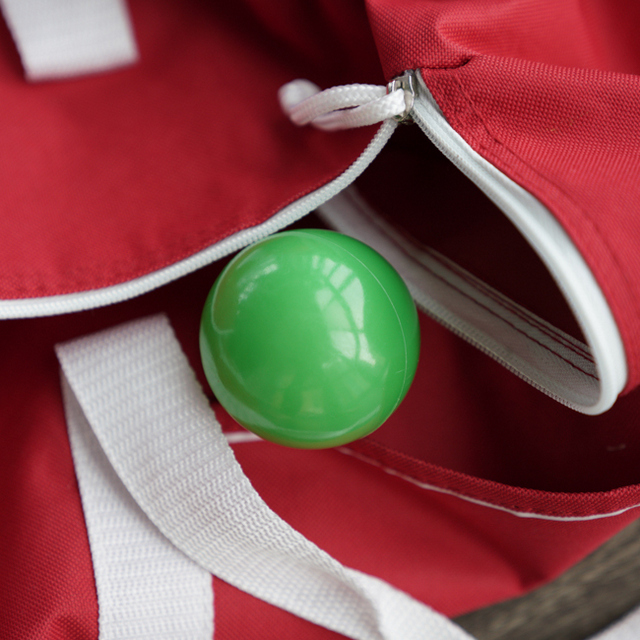Ball: (200, 230, 421, 448)
